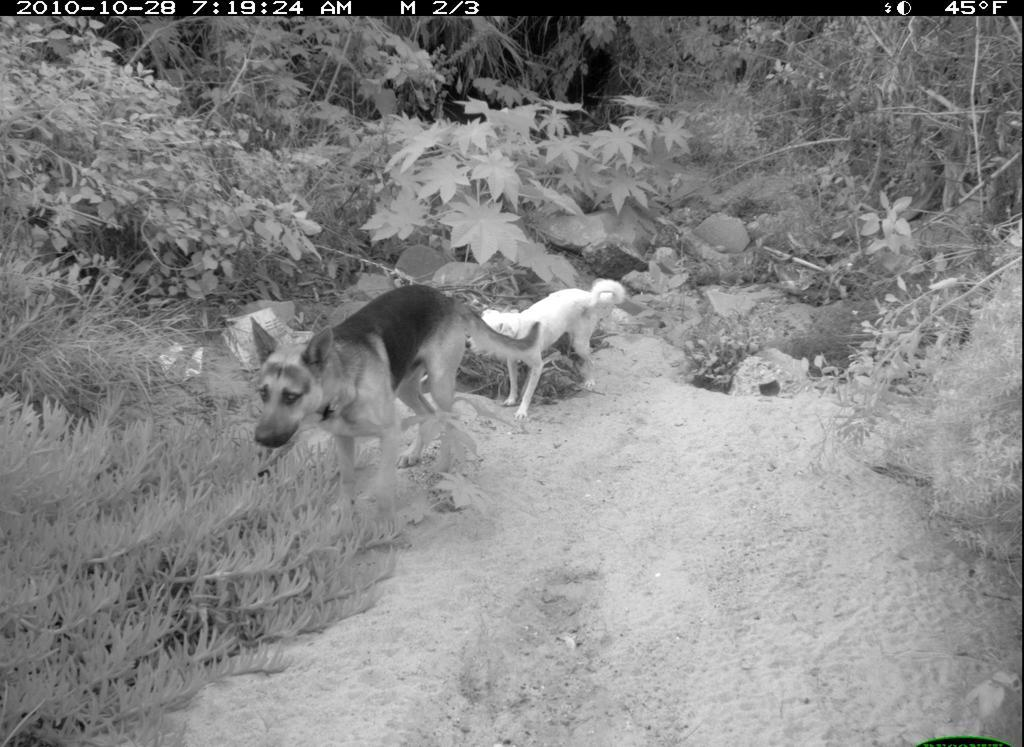dog: (233, 282, 547, 528), (484, 271, 625, 427)
